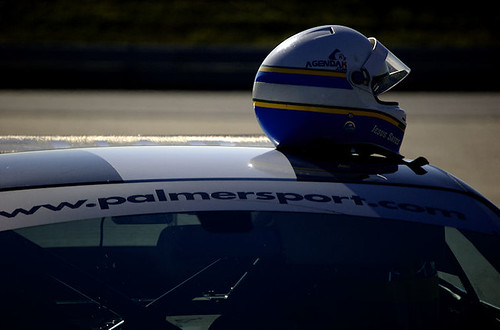helmet: (245, 21, 415, 153)
